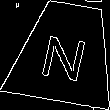N_N: (38, 24, 93, 81)
